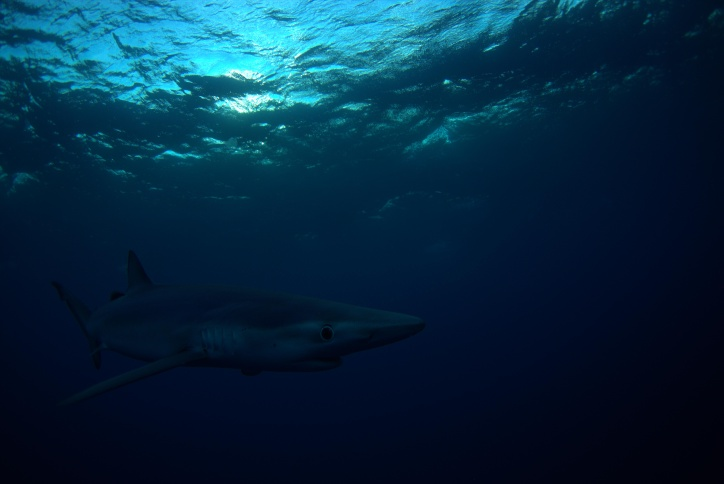Azul: (9, 238, 457, 416)
